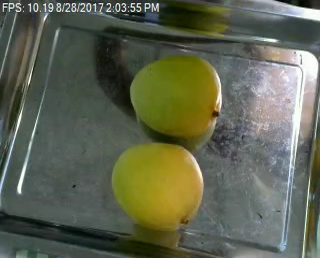Mango: (103, 140, 209, 235), (124, 54, 232, 135)
